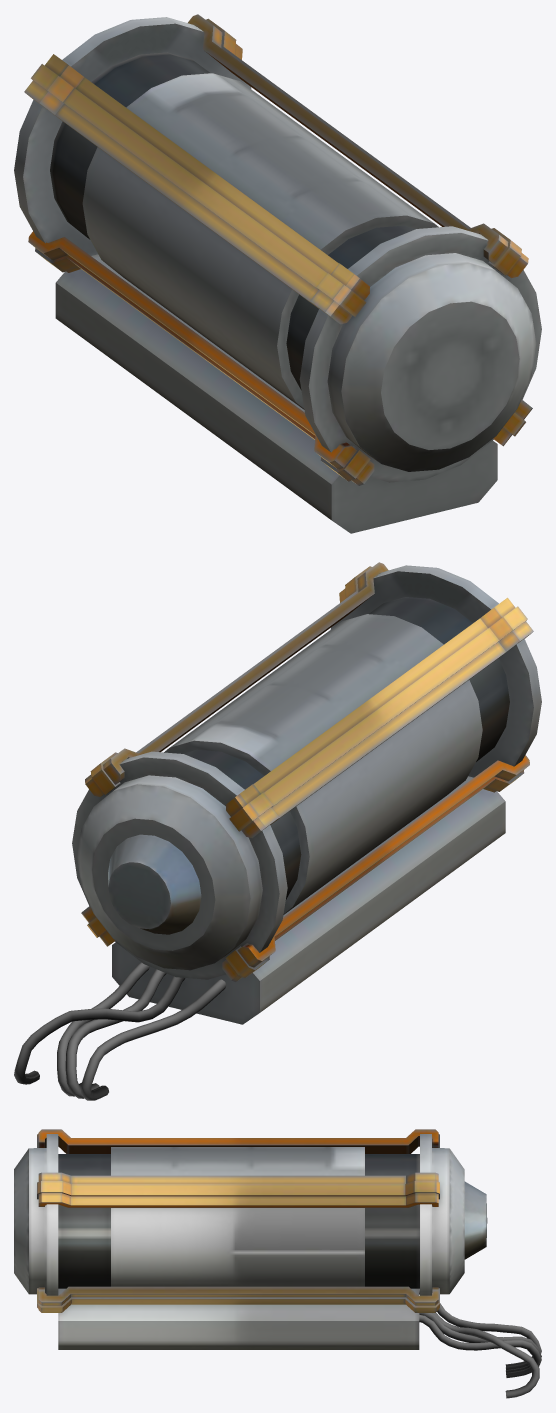
Rendered from windpowergenerator_inside_2001_02.obj.
3 views of the same model, one above another, from view 1: azimuth 30°, elevation 25°; view 2: azimuth 150°, elevation 25°; view 3: azimuth 270°, elevation 25° (orthographic). The views are drawn at different scales.
Parts seen in each view (by area): view 1: pasted__extrudedSurface8; view 2: pasted__extrudedSurface8; view 3: pasted__extrudedSurface8.
Part boxes in pixels (x1,y1,x2,y2): pasted__extrudedSurface8: (14, 14, 541, 533); pasted__extrudedSurface8: (14, 562, 541, 1100); pasted__extrudedSurface8: (14, 1129, 541, 1398).
Size of the model in its own units: 160 by 225 by 481.
1 material, 1 textured.
